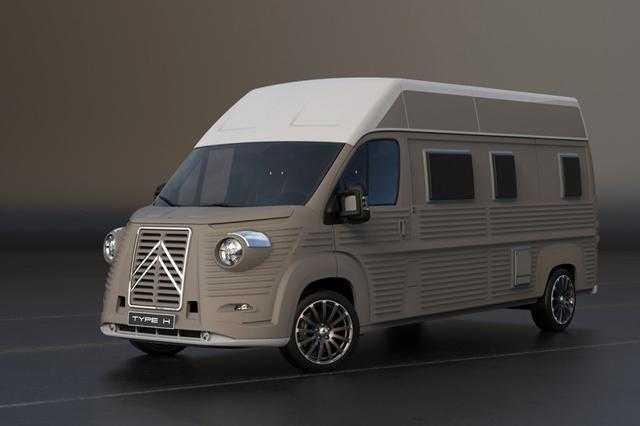van: (97, 76, 599, 374)
